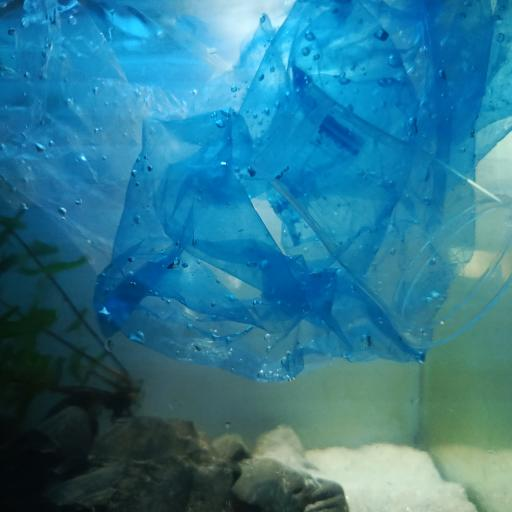plastic_bag: (96, 0, 510, 386), (1, 0, 209, 274)
plastic_cup: (245, 84, 512, 352)
